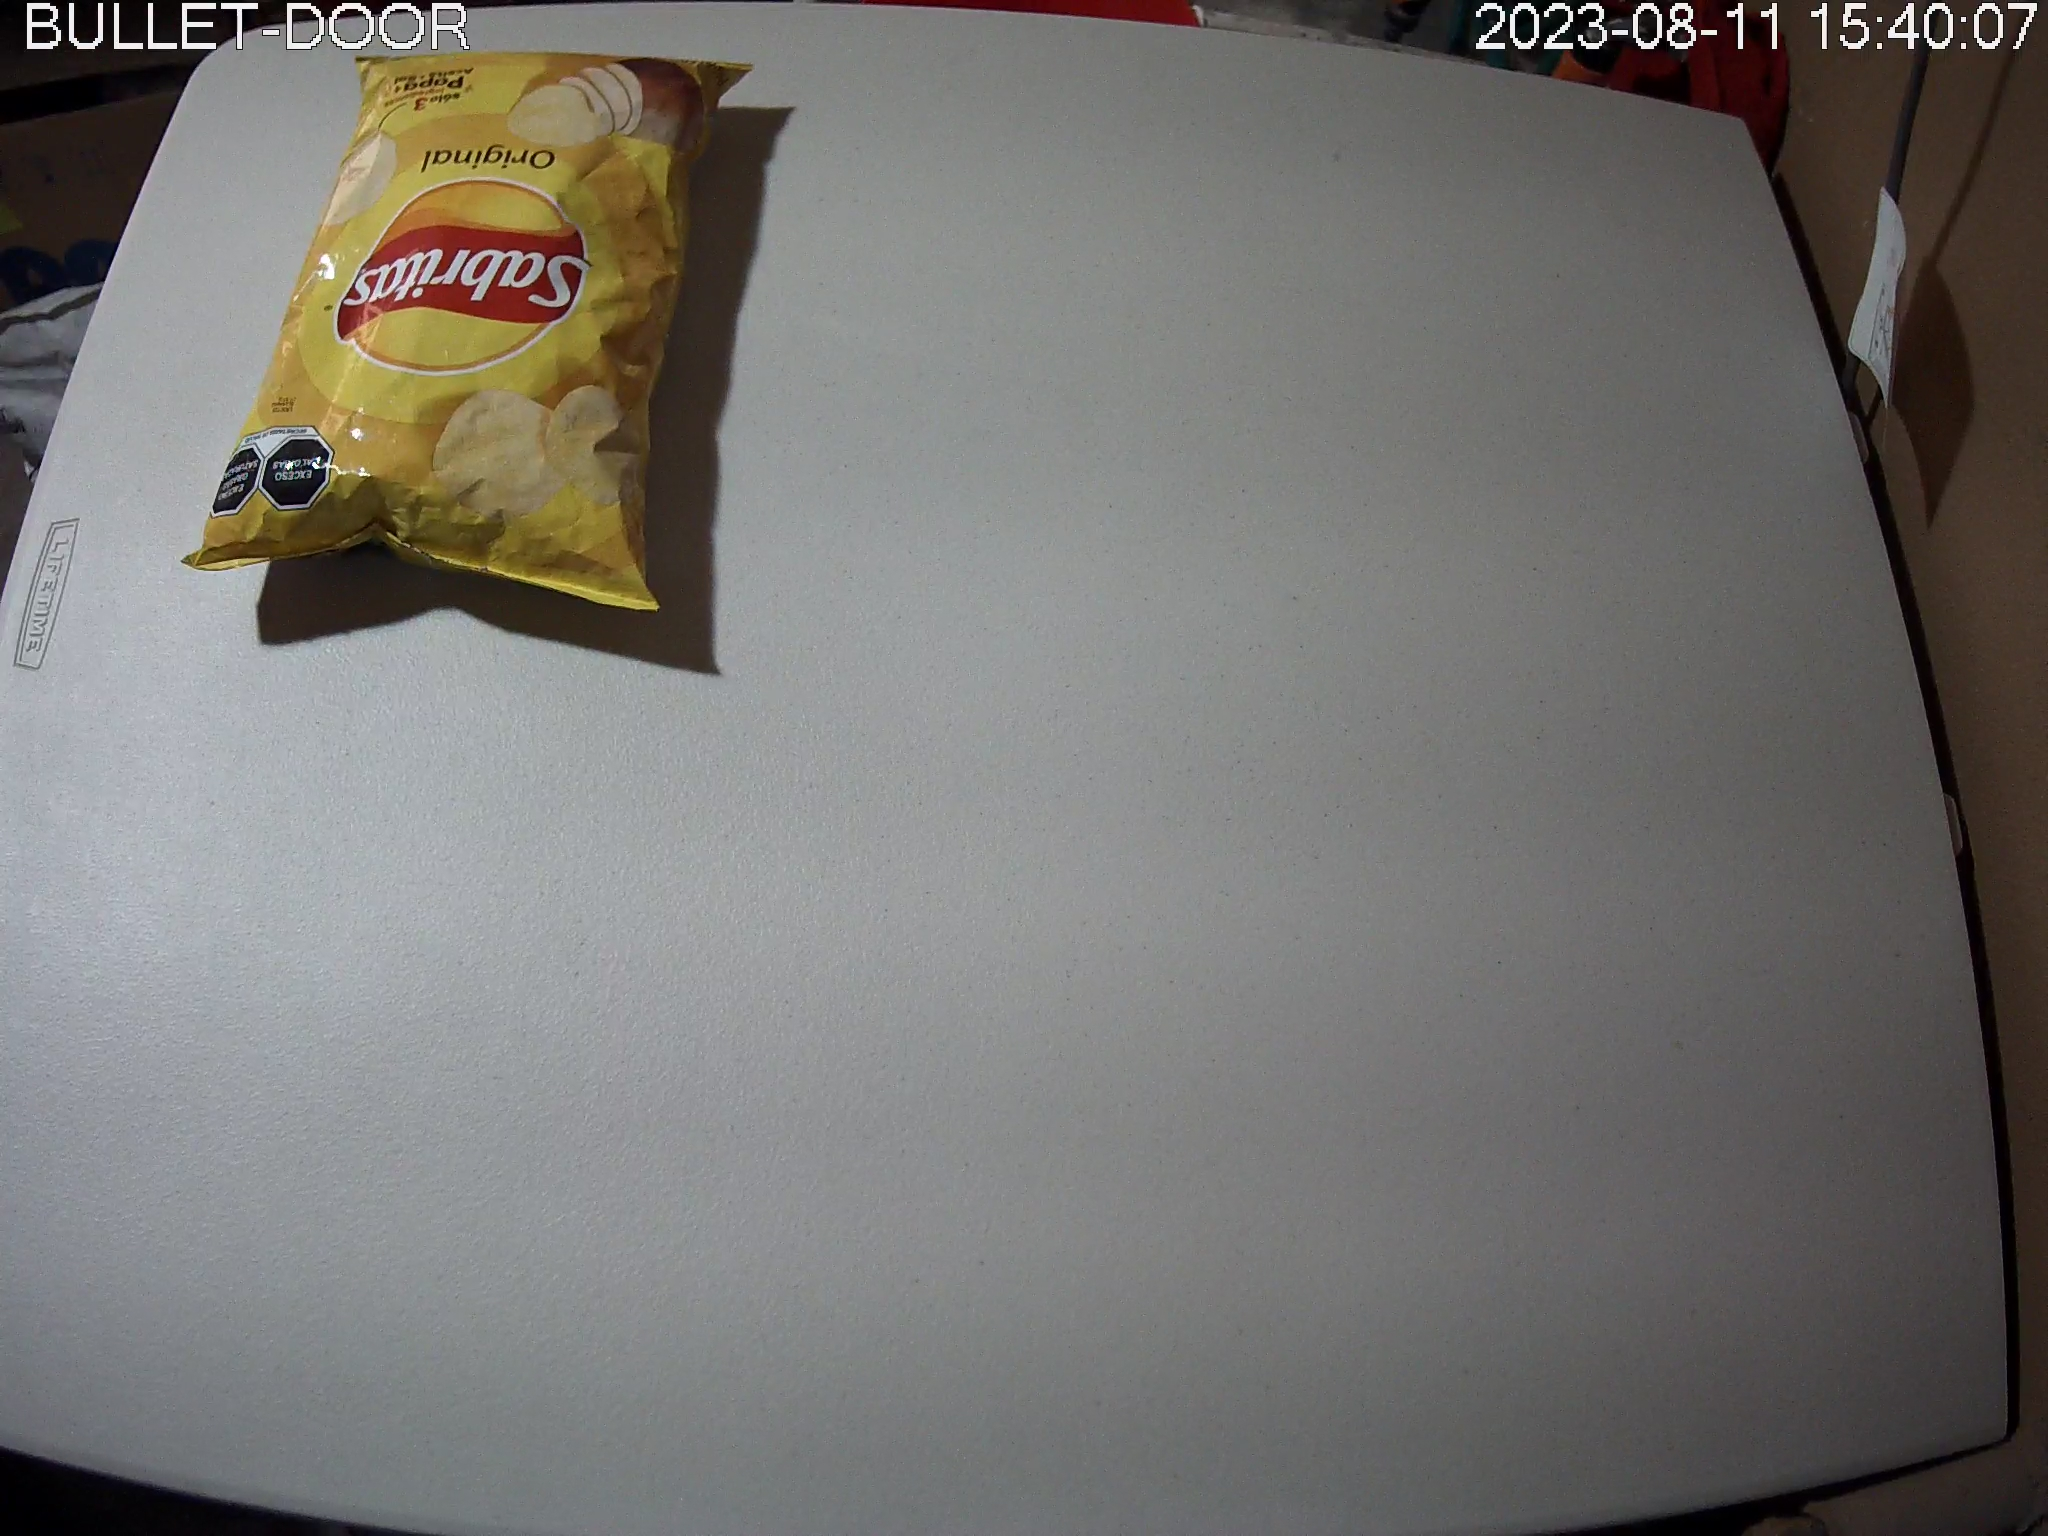Sabritas_160_F: (179, 48, 756, 616)
